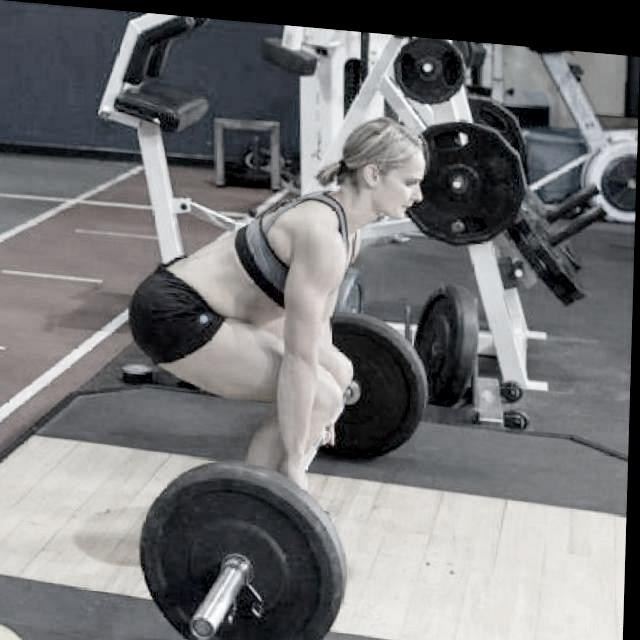barbell: (138, 455, 350, 640)
